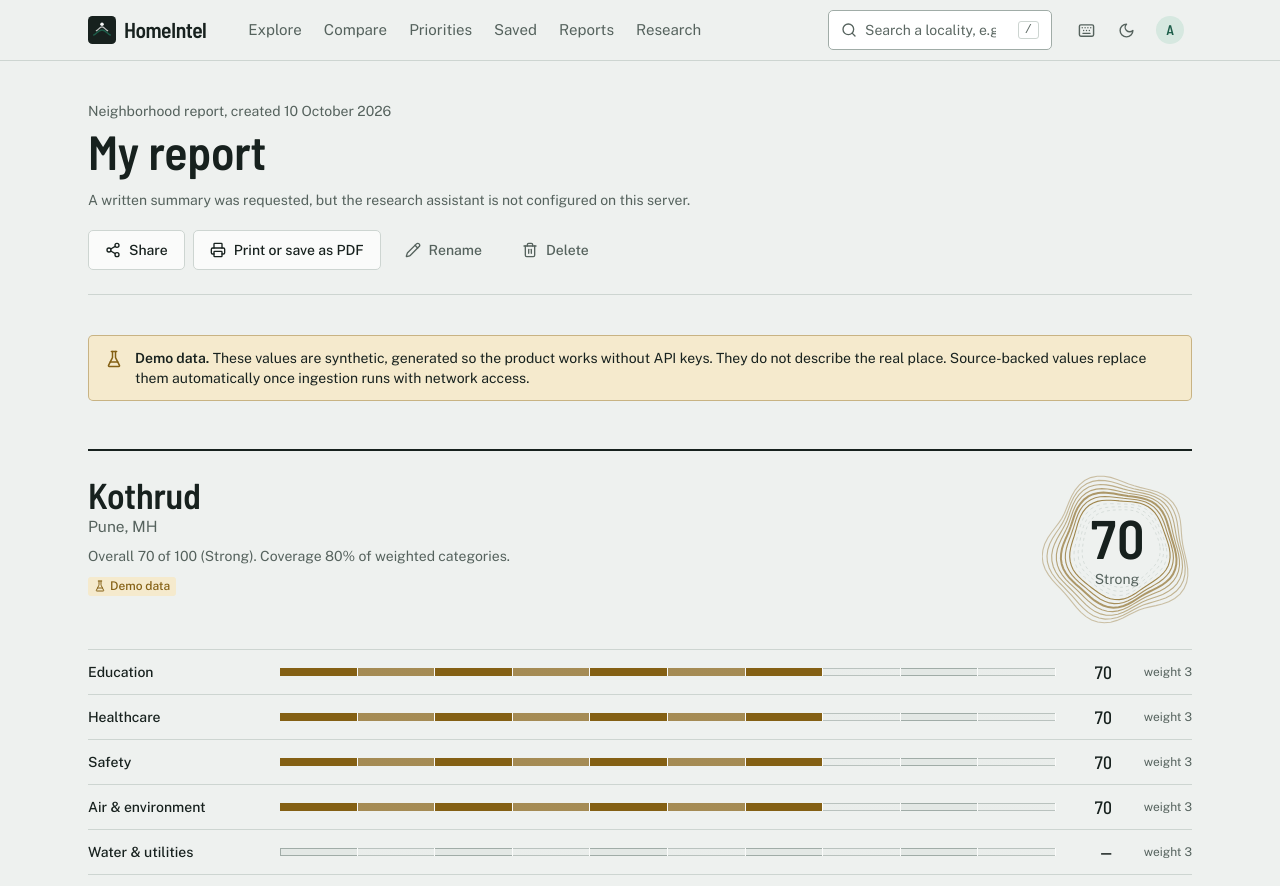
it: Signed-in pages › Report view renders sections as text and offers sharing
The image size is (1280, 886).
Expected: the heading "My report" is shown, [88,122,266,180]
Expected: the text "research assistant is not configured" is shown, [88,192,690,208]
Click the button "Share". click: (136, 250)
box: [88,230,185,270]
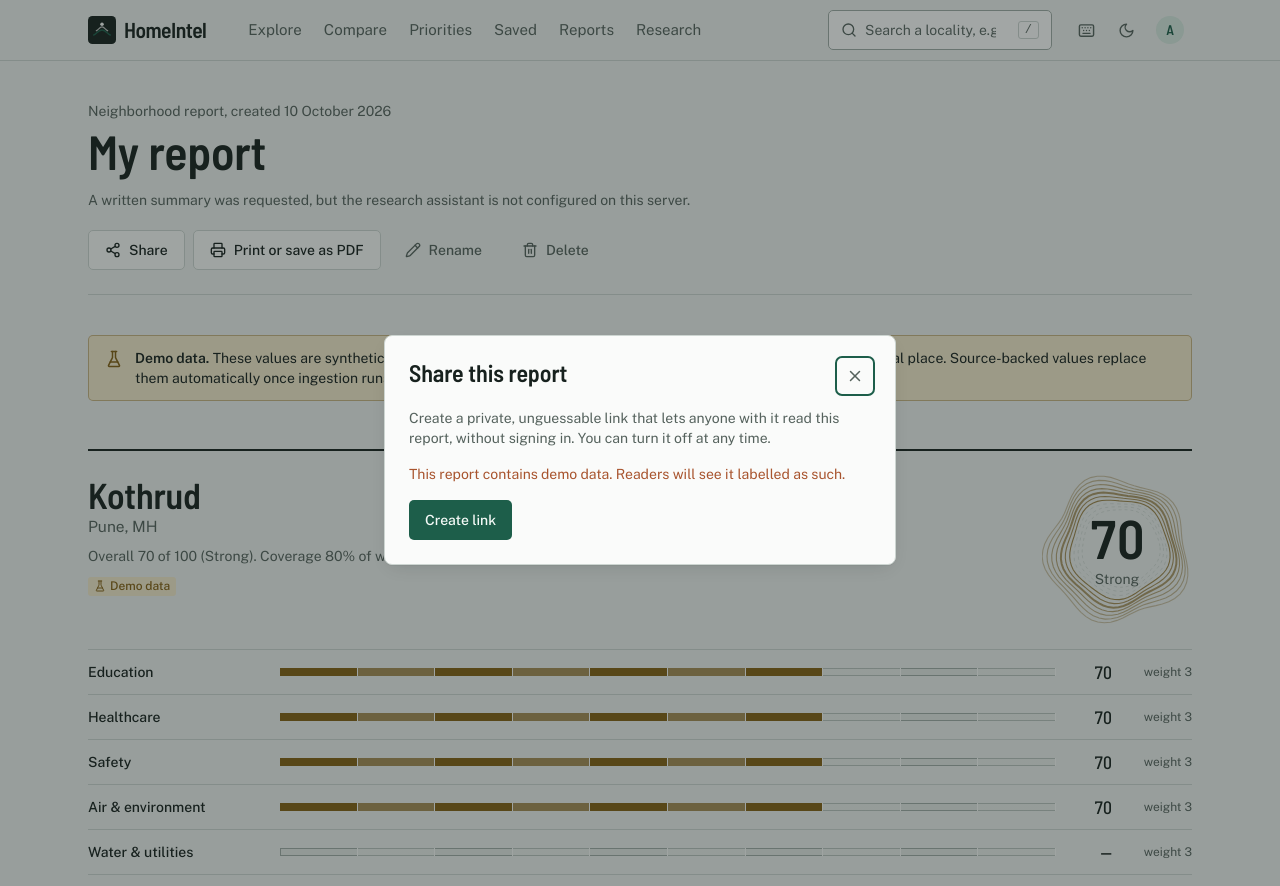
Expected: the button "Create link" is shown, [409,500,512,540]
